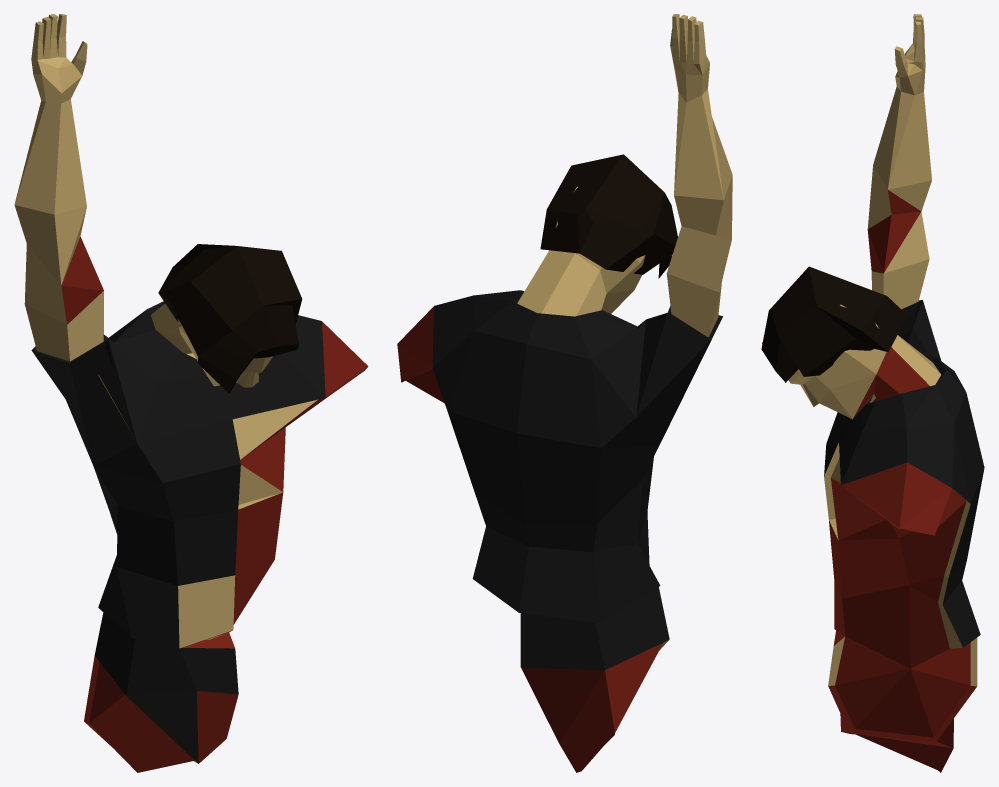
File: Props2.fbx
3 renders of one model, left to right at view 1: azimuth 30°, elevation 25°; view 2: azimuth 150°, elevation 25°; view 3: azimuth 270°, elevation 25°, orthographic. The views are drawn at different scales.
Visible parts, largest first — view 1: WithCloths.004; view 2: WithCloths.004; view 3: WithCloths.004.
Boxes of the visible parts, x1,y1,x2,y2 form: WithCloths.004: (14, 14, 368, 772); WithCloths.004: (397, 14, 732, 772); WithCloths.004: (761, 14, 984, 772).
Bounding box in the file's own units: 513 × 1124 × 319.
